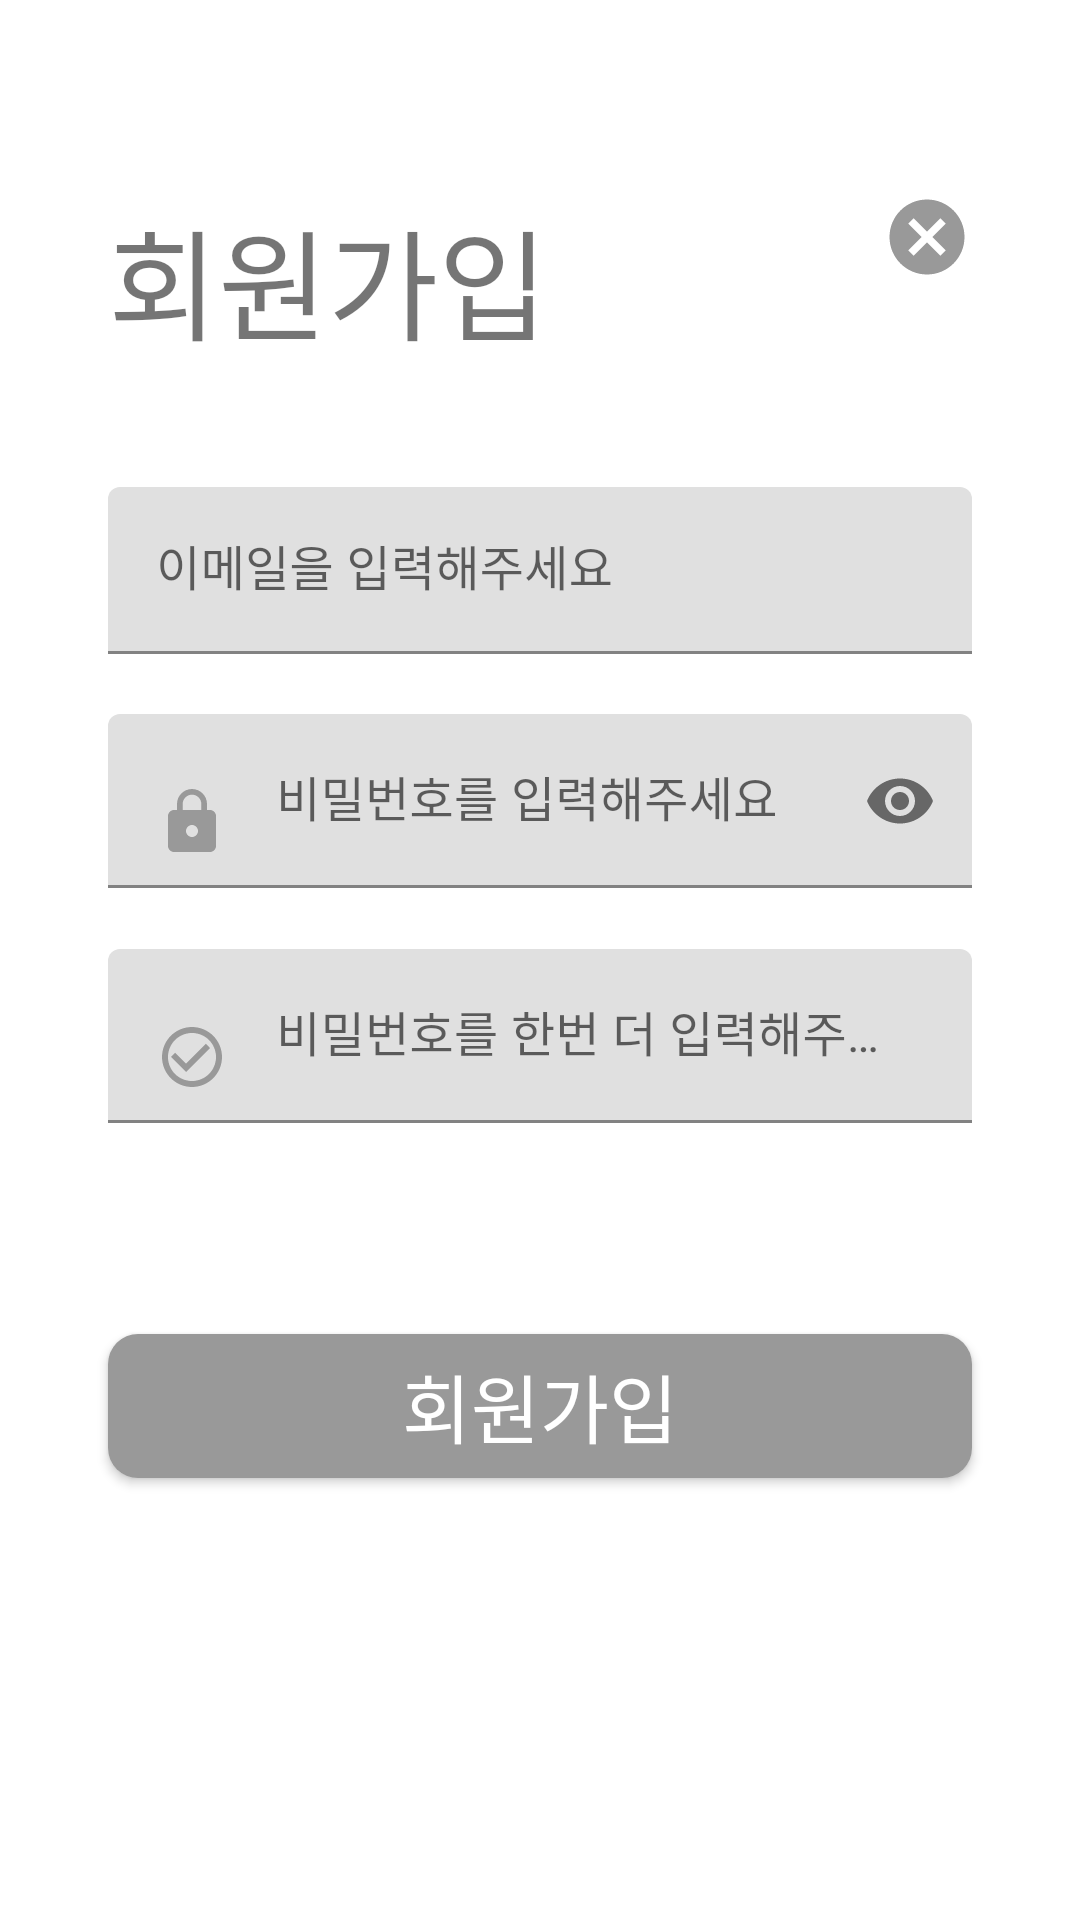

Where to tap for icons on this 1080px×1920px app screen, as point (x, y):
cancel: point (927, 237)
